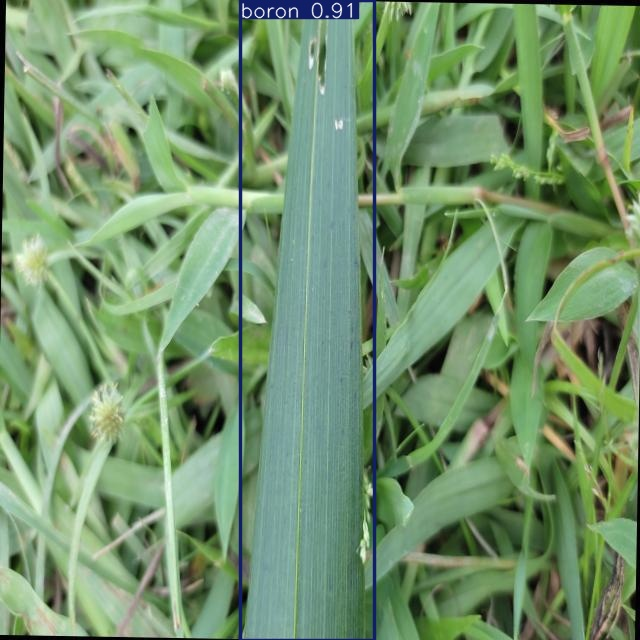nitrogen: (240, 0, 374, 640)
